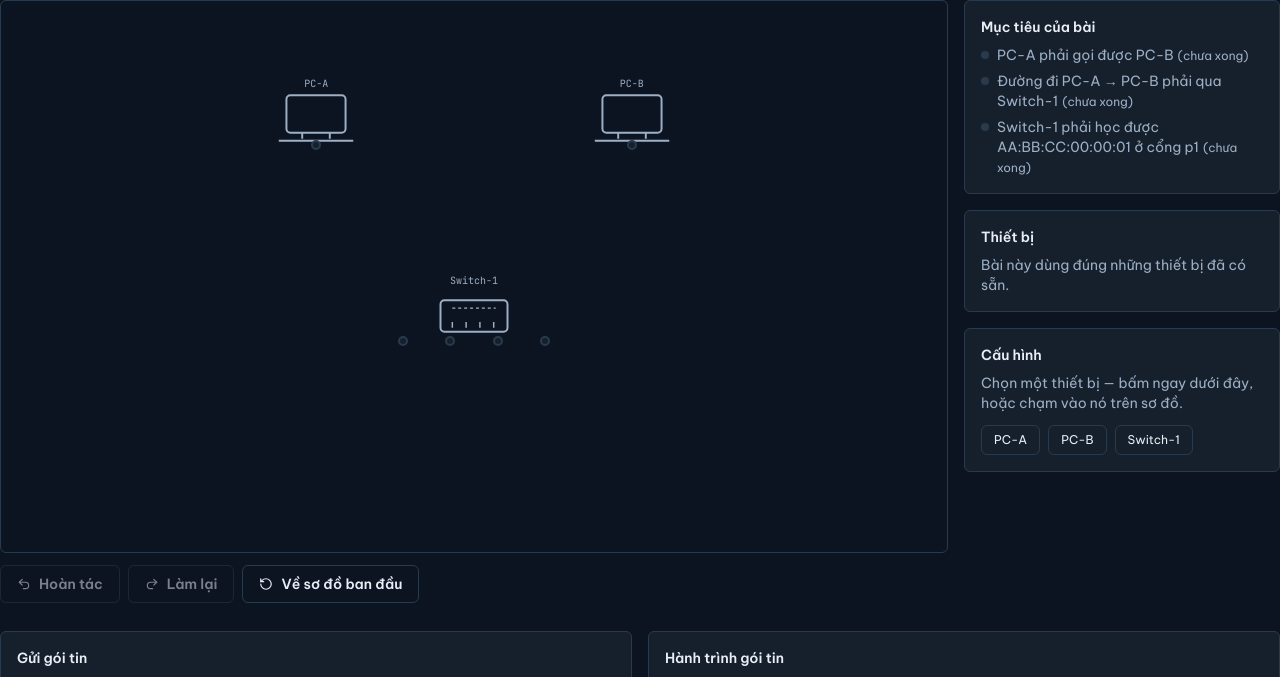
Scenario: lời từ chối tử tế (spec 4.4) › nối vào cổng đã có dây thì được giải thích, KHÔNG hiện chữ SAI
This screenshot has width=1280, height=677.
Click the 1st button "PC-A".
click(316, 119)  # box [279, 93, 354, 145]
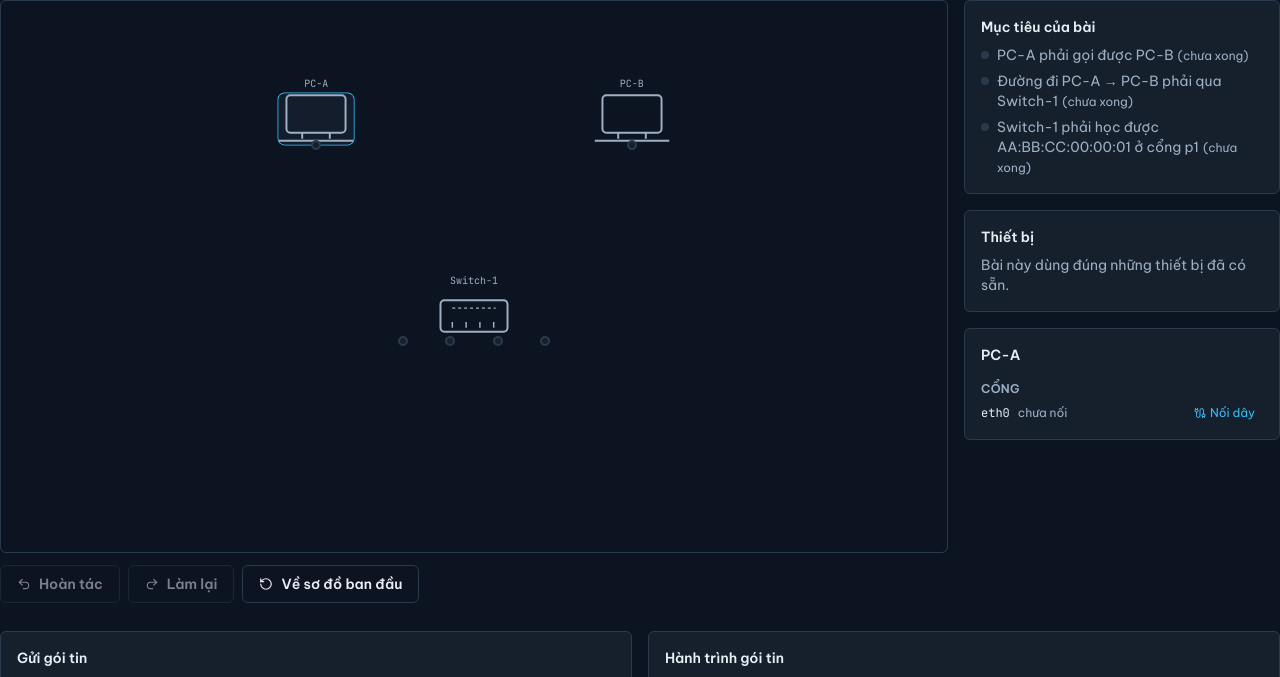
Click the button "Nối dây".
click(1224, 413)  # box [1186, 403, 1263, 423]
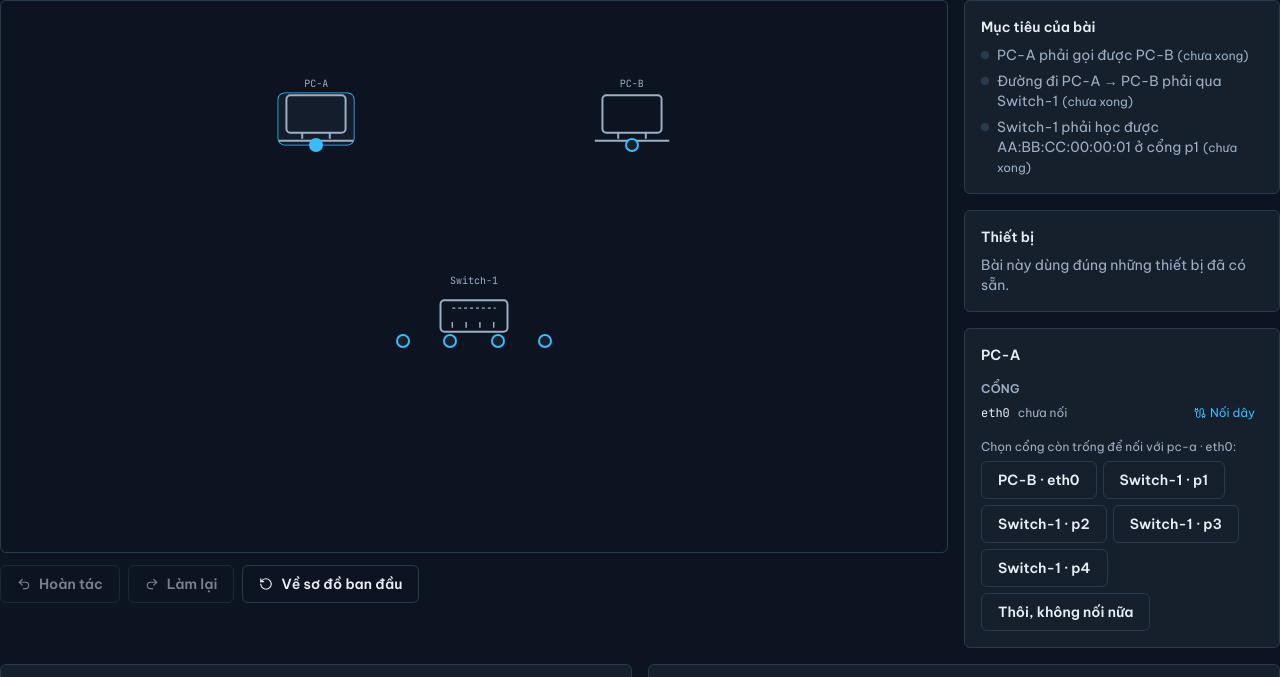
Click the button "Switch-1 · p1".
click(1164, 480)  # box [1103, 461, 1225, 499]
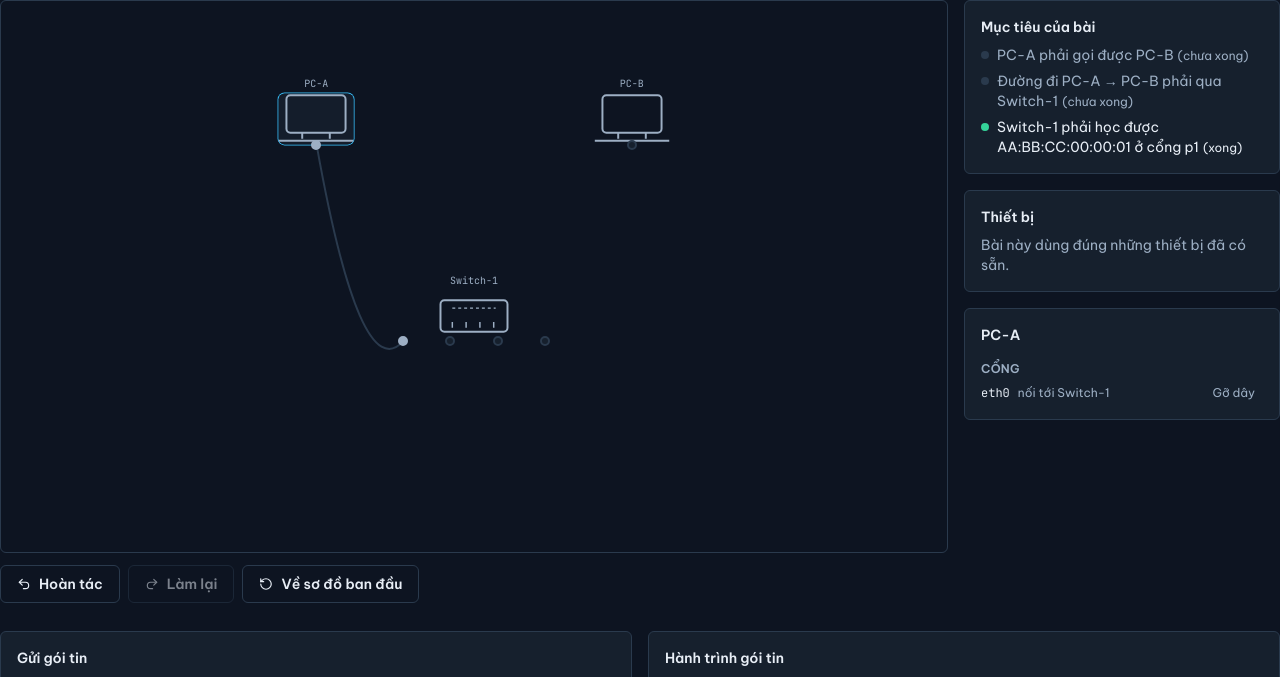
Click the button "PC-B".
click(632, 119)  # box [594, 93, 669, 145]
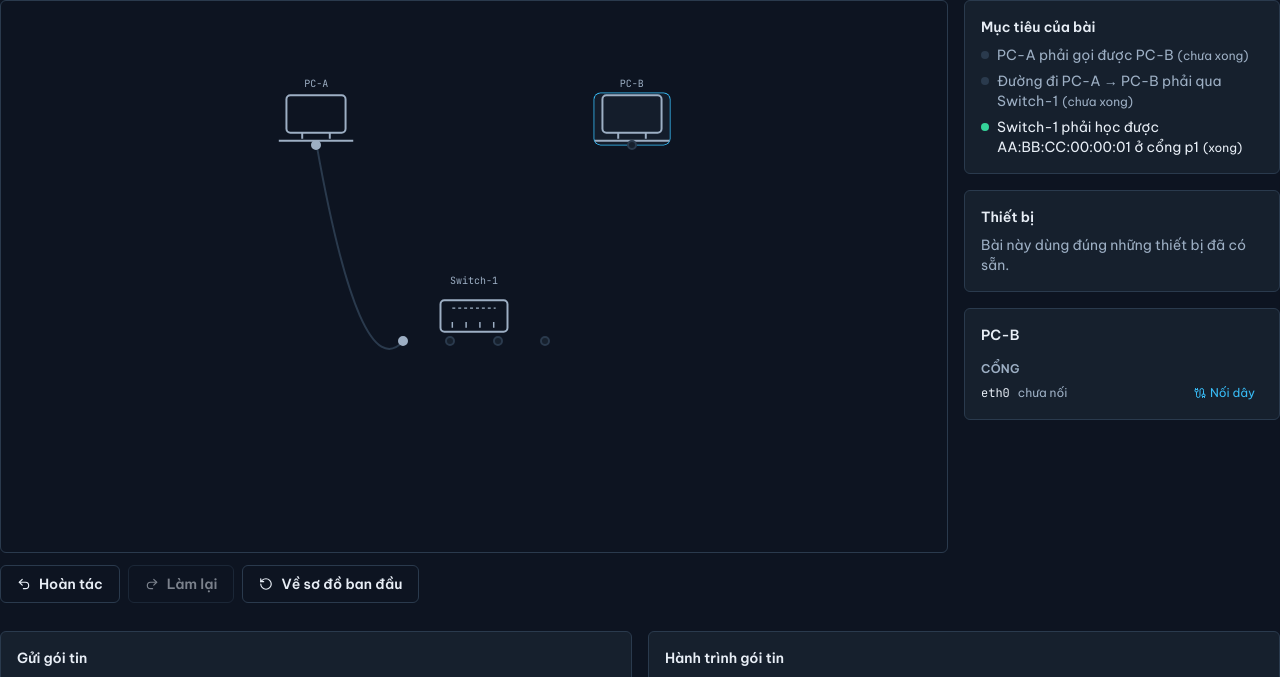
Click the button "Nối dây".
click(1224, 393)  # box [1186, 383, 1263, 403]
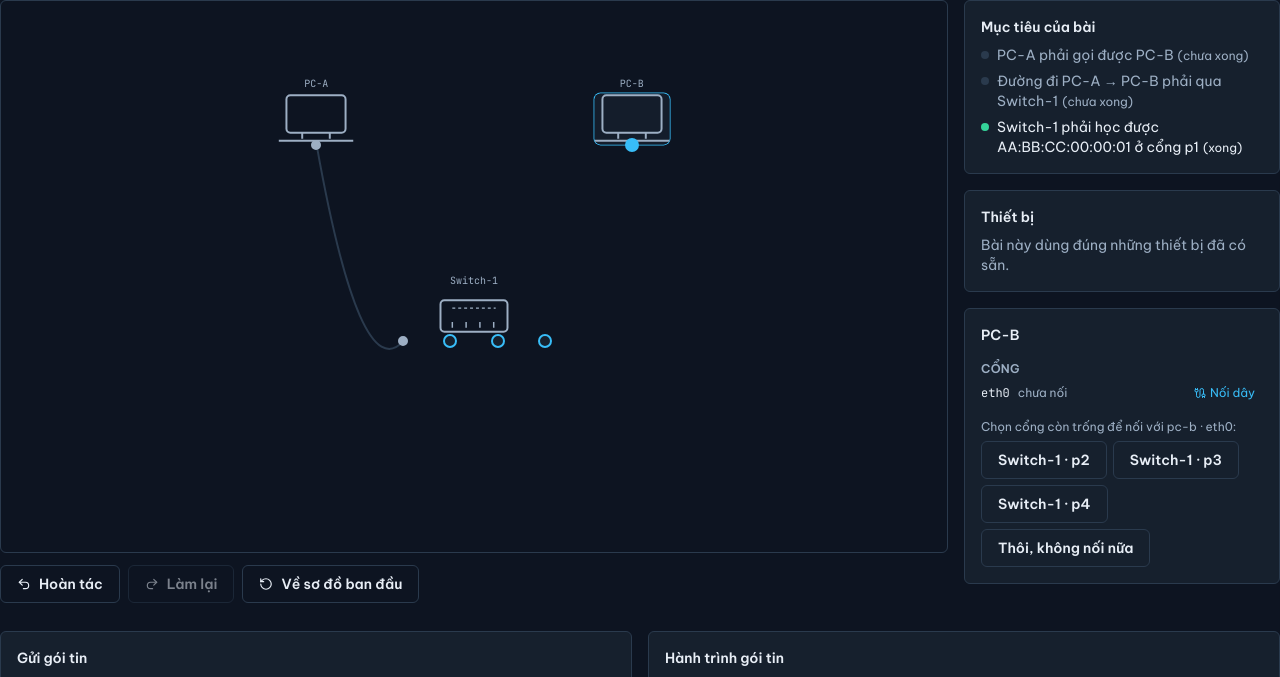
Click the button named "Switch-1 · p1 — nối tới PC-A".
click(403, 341)  # box [391, 329, 415, 353]
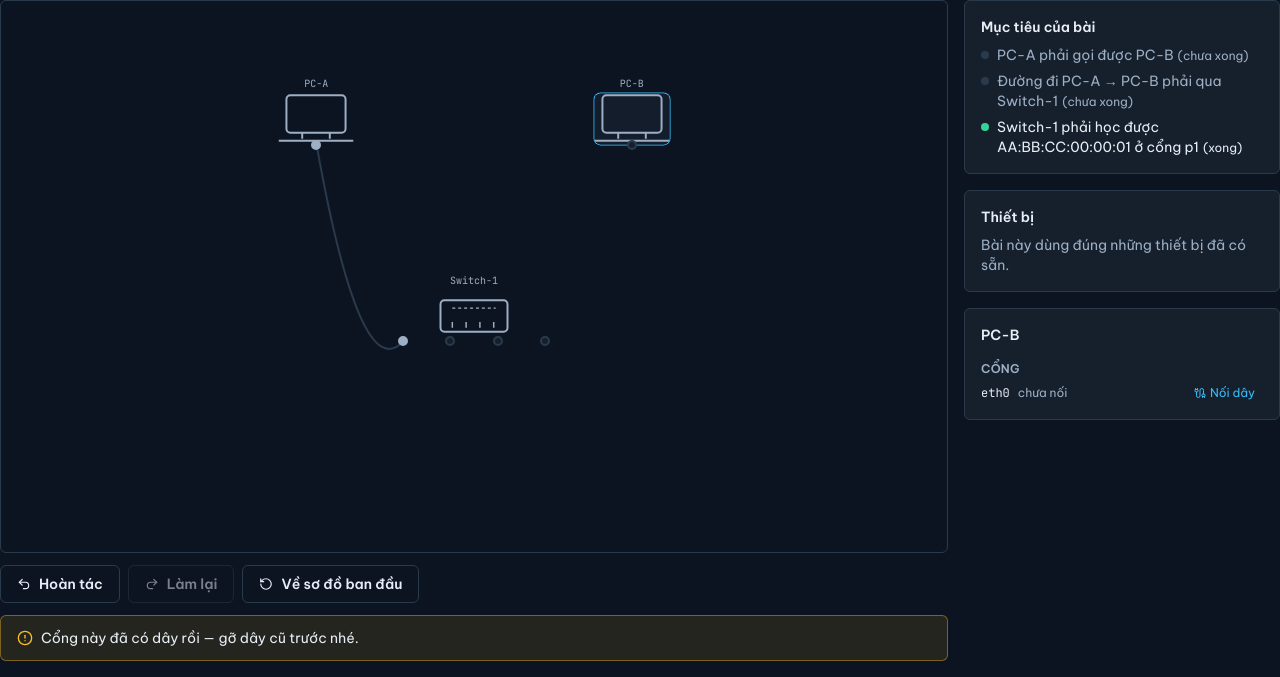
Check: the message shows "đã có dây rồi", box [41, 629, 359, 647]
